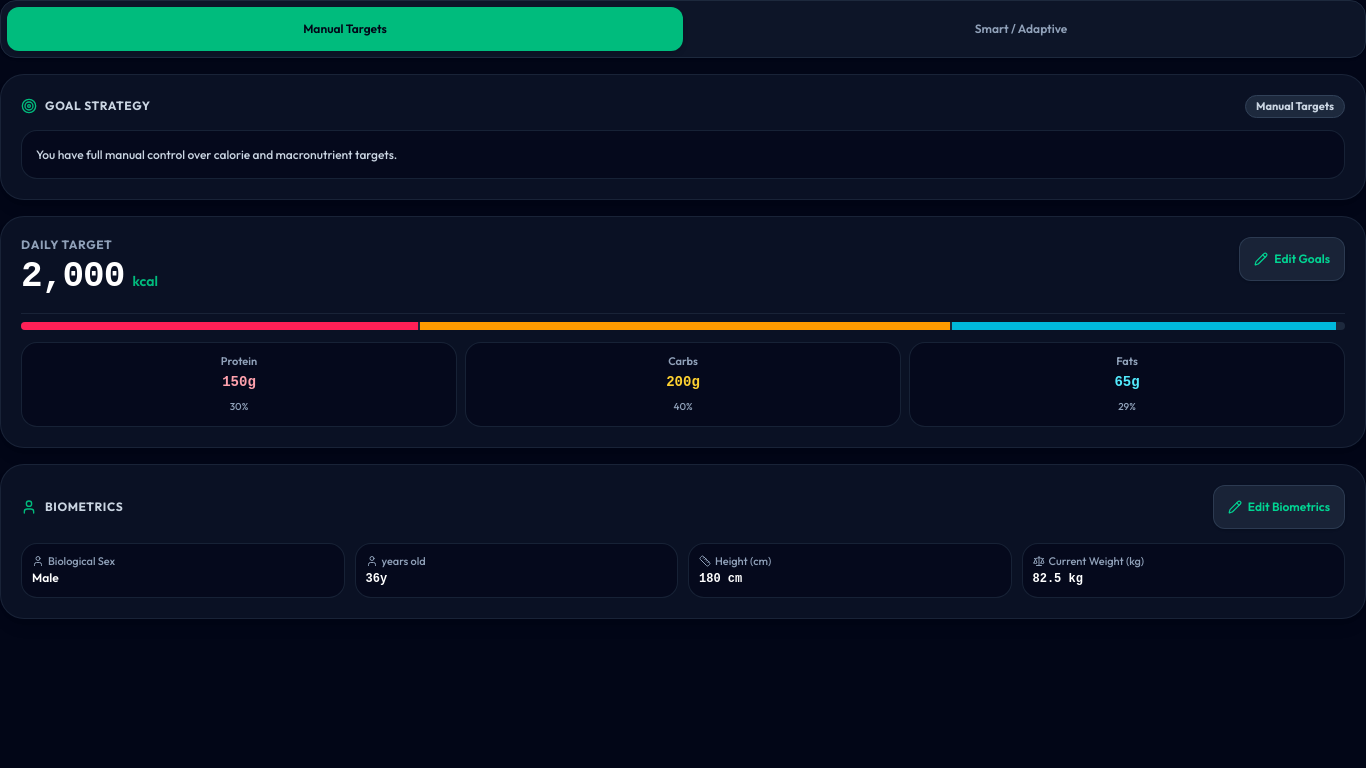
it: UserProfileGoalsScreen & Focused Modals Component Suite › 4. opens ManualGoalsEditModal when Edit Goals is clicked in manual mode
The width and height of the screenshot is (1366, 768).
Note: Click edit goals
What coordinates should you click on to do the following:
click the button with test id "btn-edit-goals"
I would click on:
 (1292, 259)
Its box is [1239,237,1345,281].
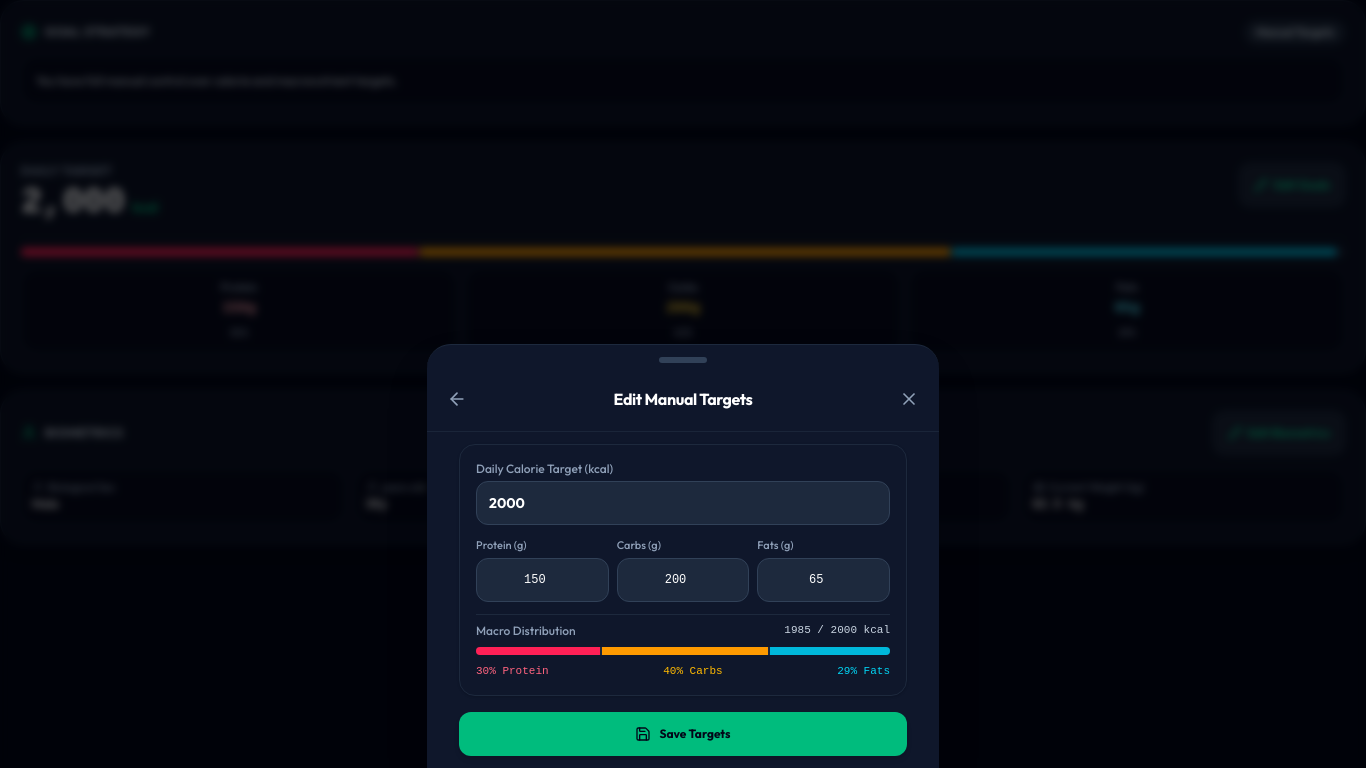
Result: the dialog with test id "manual-goals-edit-modal" is shown at [427,344,939,767]
Result: the button with test id "btn-back-manual-goals" is shown
Result: the number field with test id "input-calorie-target" is shown at [476,481,890,525]
Note: Click back button closes modal
What coordinates should you click on to do the following:
click the button with test id "btn-back-manual-goals"
I would click on:
 (457, 399)
Its box is [435,377,479,421].
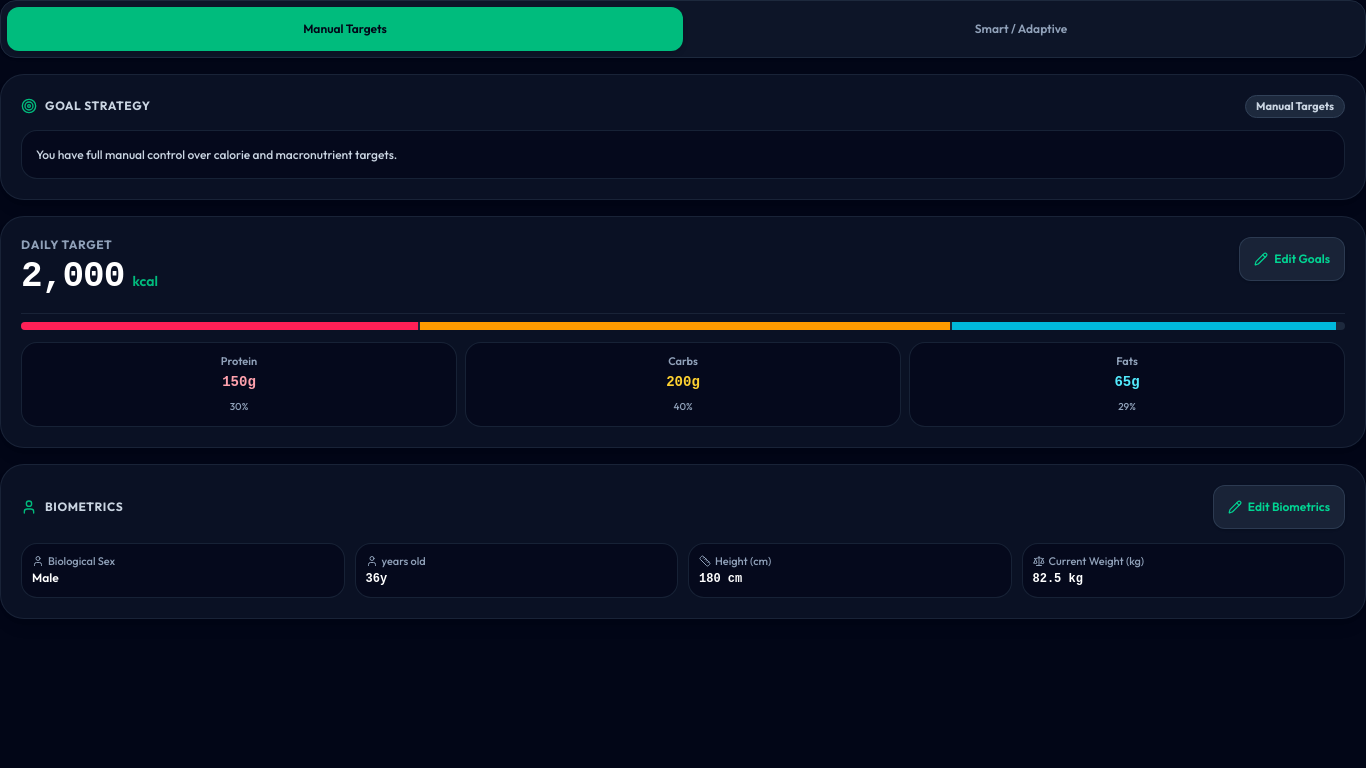
Result: the dialog with test id "manual-goals-edit-modal" is gone
